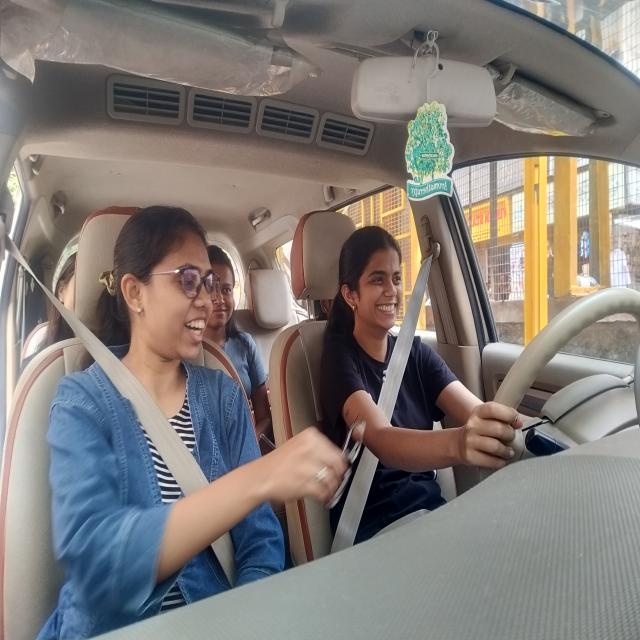person: (108, 192, 218, 374), (336, 205, 422, 364), (202, 226, 246, 333)
